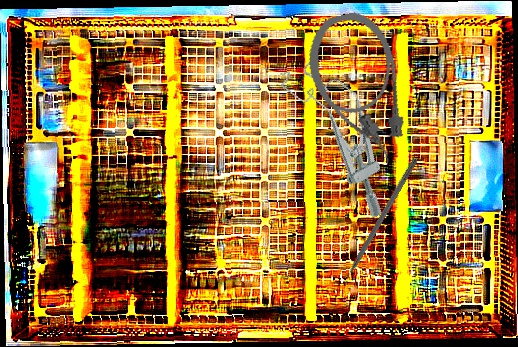Cannula: (299, 5, 417, 176)
Hook Surgical: (337, 157, 418, 290)
Speculum: (275, 45, 415, 226)
